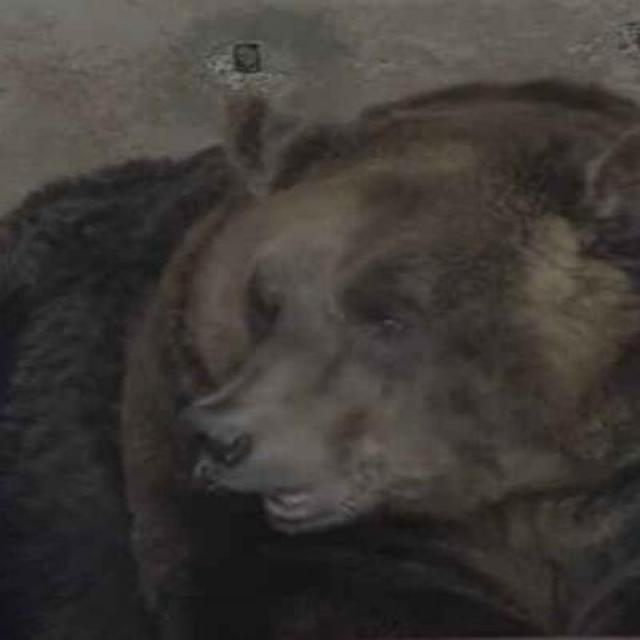Bear: (0, 70, 640, 640)
